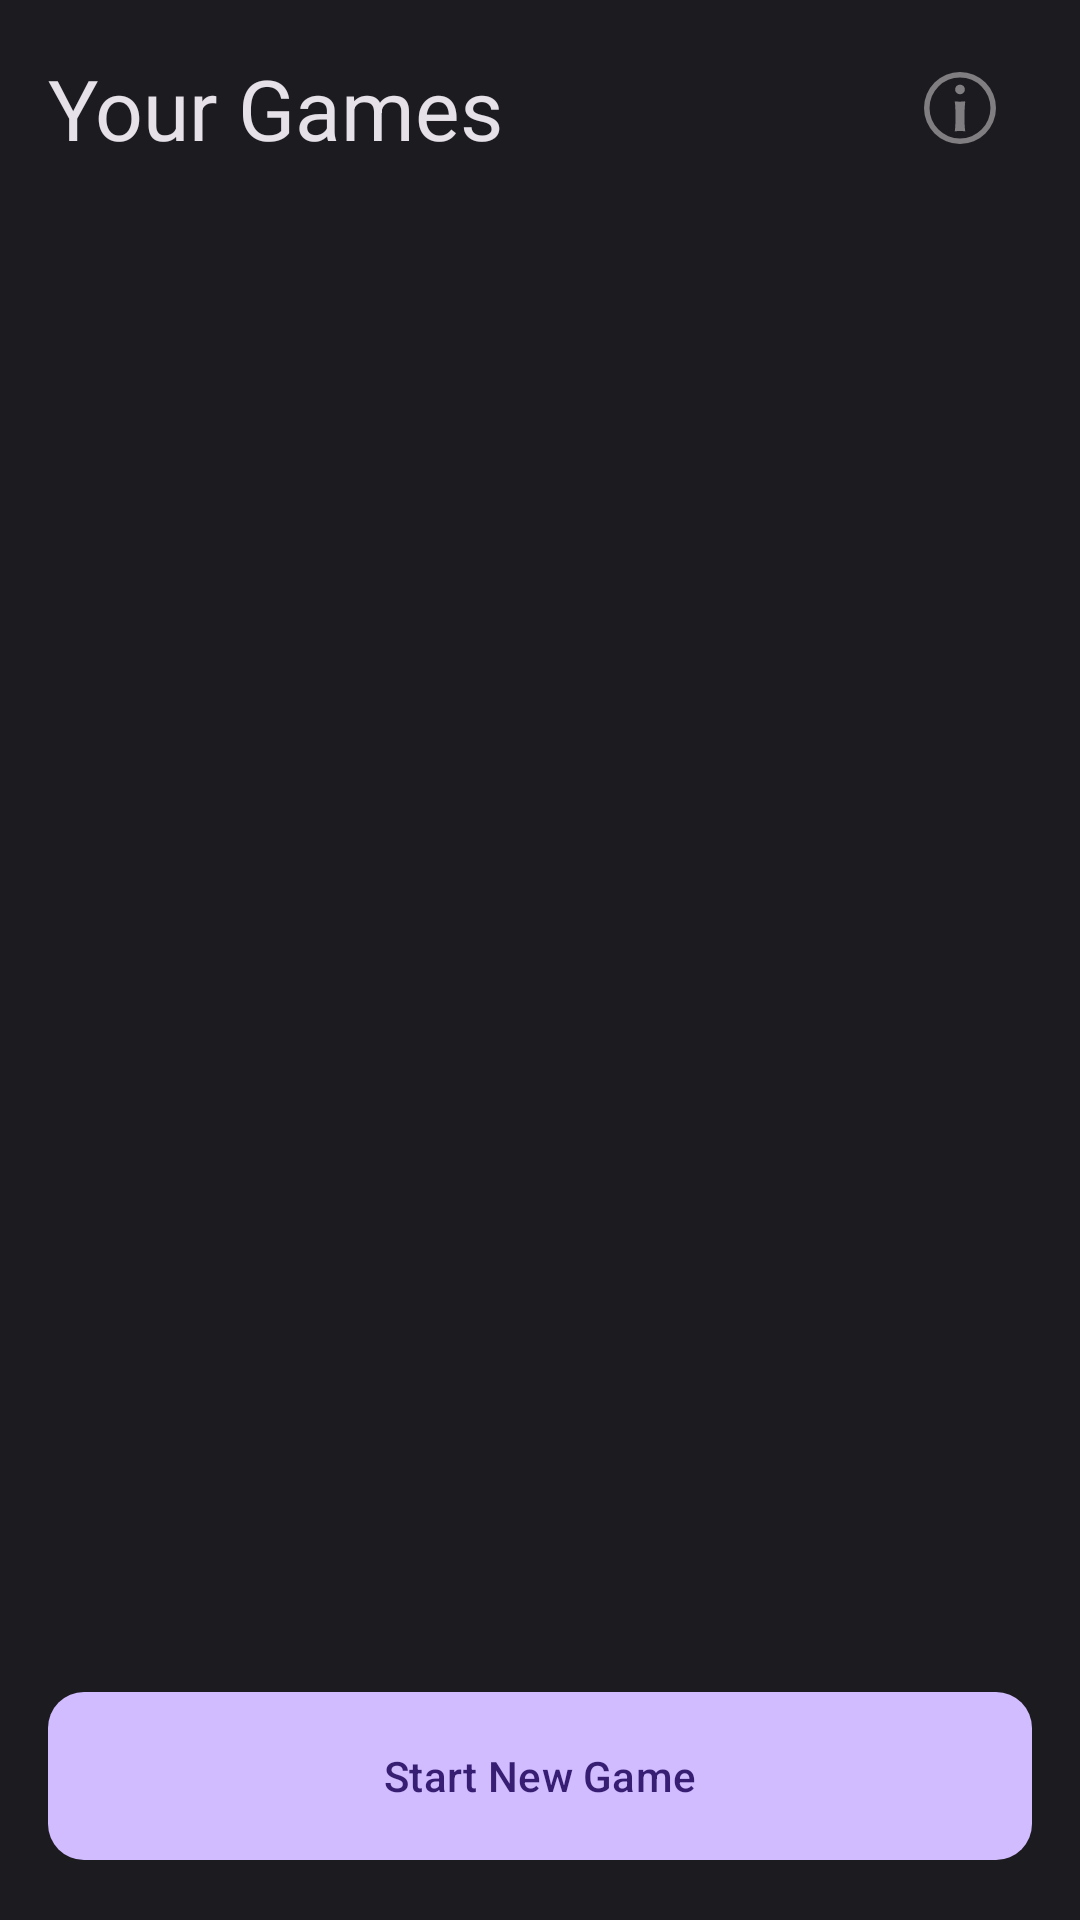

Where icons sit on this 1080px×1920px app screen, as (x1, y1, x2, y2):
Info: (924, 72, 996, 144)
